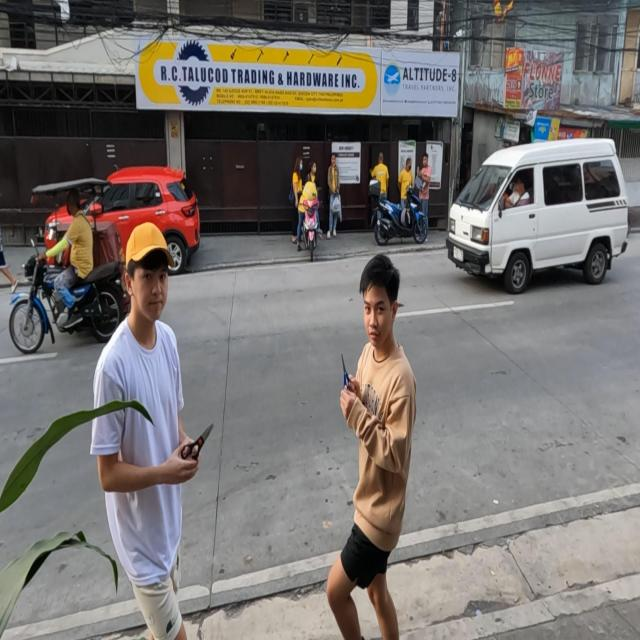scissor: (180, 422, 215, 468), (341, 354, 357, 399)
